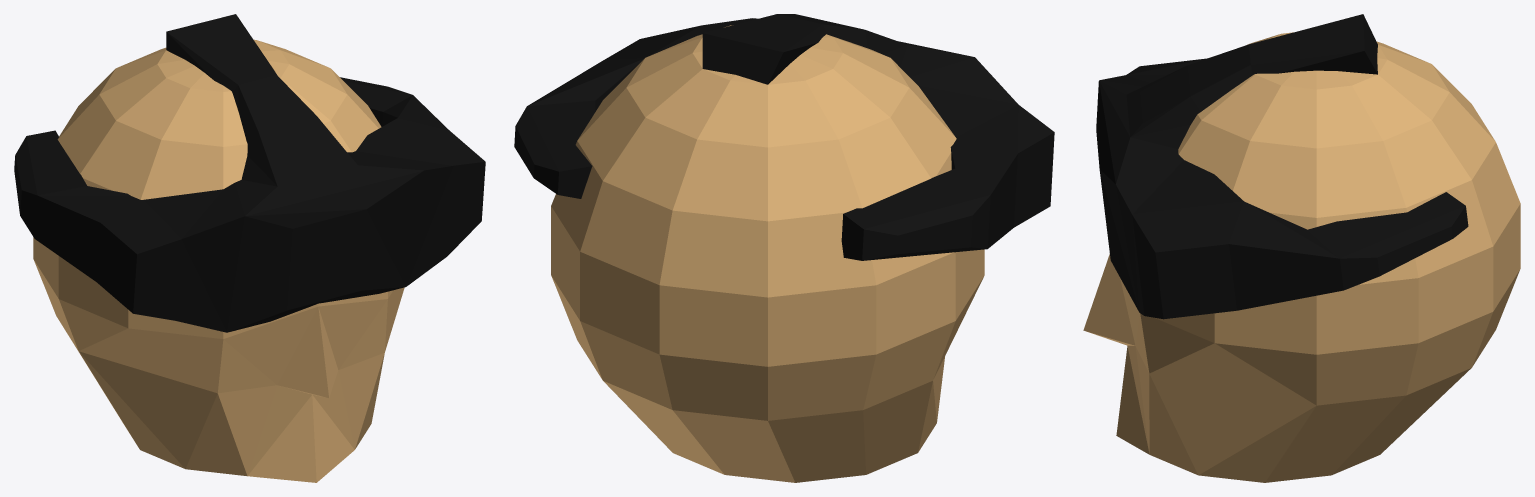
3 views of the same model, side by side, from view 1: azimuth 30°, elevation 25°; view 2: azimuth 150°, elevation 25°; view 3: azimuth 270°, elevation 25° (orthographic). The views are drawn at different scales.
Visible parts, largest first — view 1: node_MeshObject-1315719104-PolyPaper23; view 2: node_MeshObject-1315719104-PolyPaper23; view 3: node_MeshObject-1315719104-PolyPaper23.
Part boxes in pixels (x1=…): node_MeshObject-1315719104-PolyPaper23: x1=14, y1=14, x2=485, y2=482; node_MeshObject-1315719104-PolyPaper23: x1=514, y1=14, x2=1054, y2=482; node_MeshObject-1315719104-PolyPaper23: x1=1083, y1=14, x2=1520, y2=482.
Size of the model in its own units: 0.1872 by 0.1762 by 0.1689.
